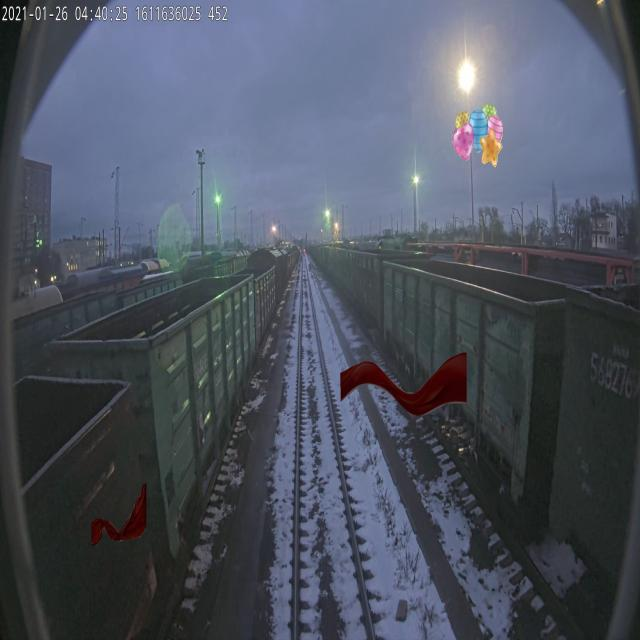balloon: (453, 103, 504, 167)
floating object: (340, 352, 467, 416), (91, 483, 146, 547)
